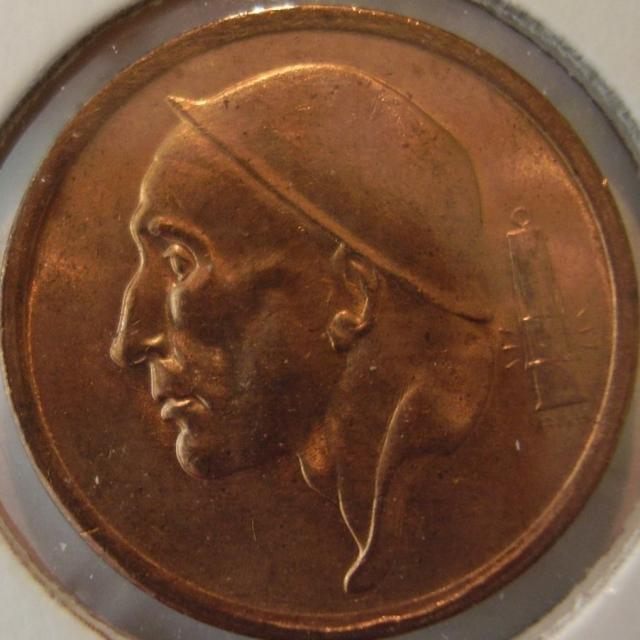Coin: (1, 3, 636, 637)
